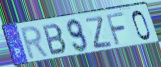0: (132, 9, 152, 42)
9: (66, 18, 90, 54)
B: (41, 23, 69, 57)
F: (105, 12, 128, 47)
R: (19, 25, 51, 63)
Z: (84, 15, 113, 50)
